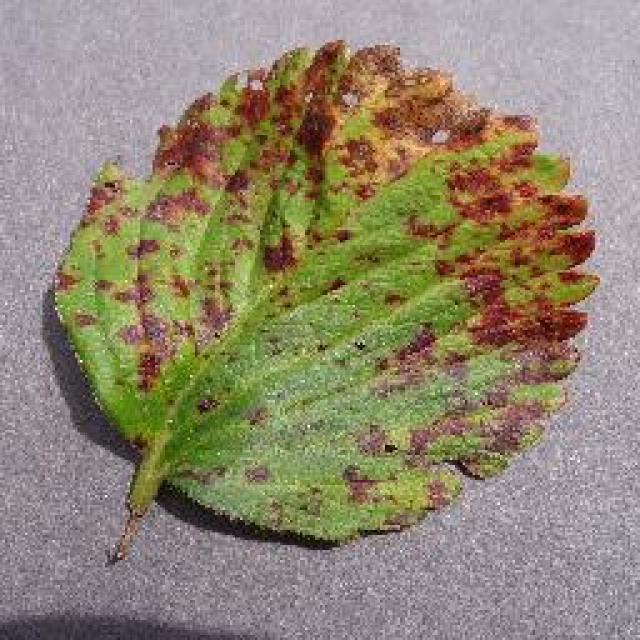Strawberry leaf scorch: (170, 117, 525, 458)
